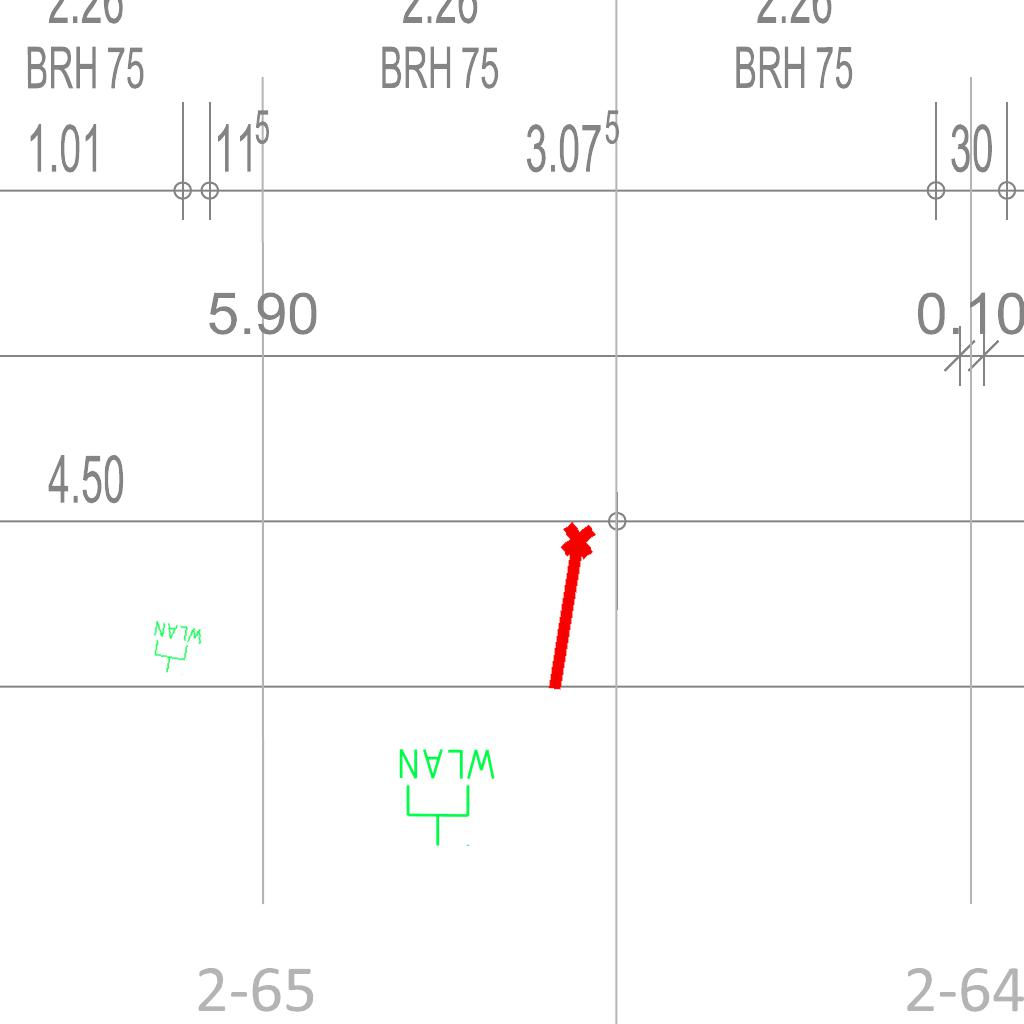ASR_Ansaugoeffnung: (533, 517, 607, 699)
WLAN: (395, 745, 500, 849), (145, 618, 207, 680)
